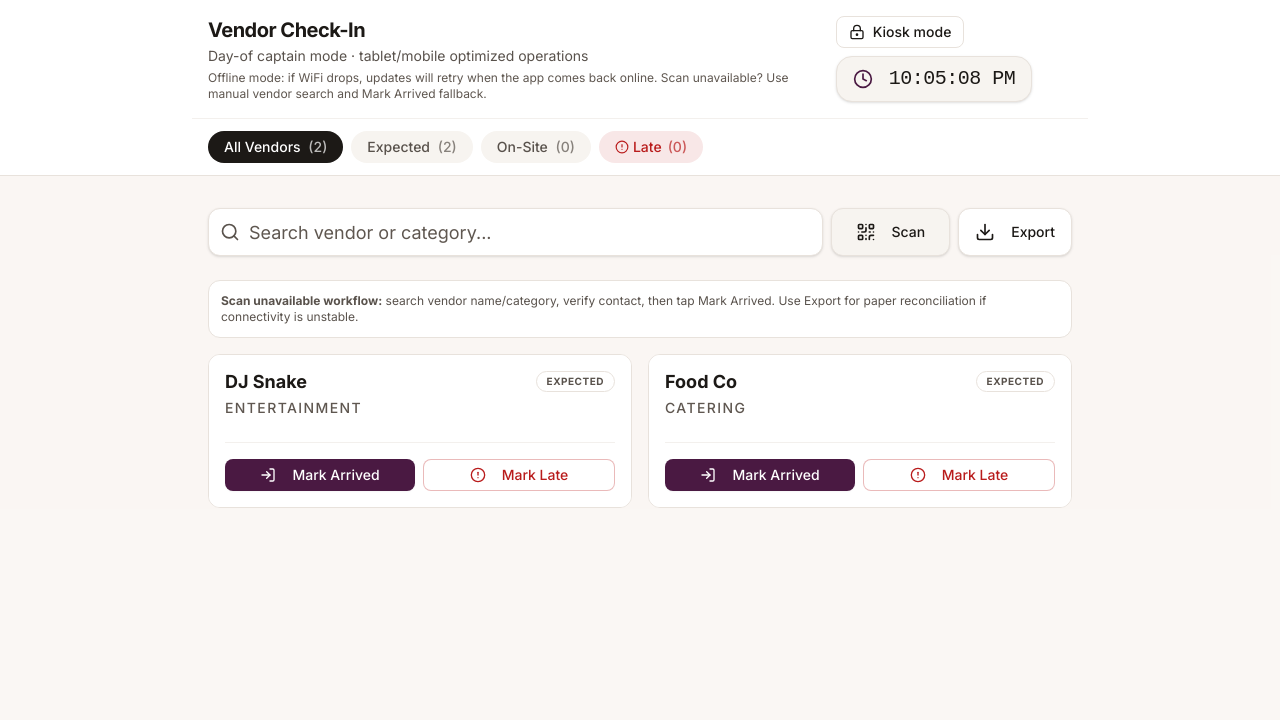
VendorCheckInApp › non-offline failures show the real error message (no false offline promise)
The image size is (1280, 720).
Expected: the heading "DJ Snake" is shown, left=225, top=371, right=307, bottom=392
Click the button "Mark Arrived" below "Entertainment" at [320, 474], box left=225, top=458, right=415, bottom=490
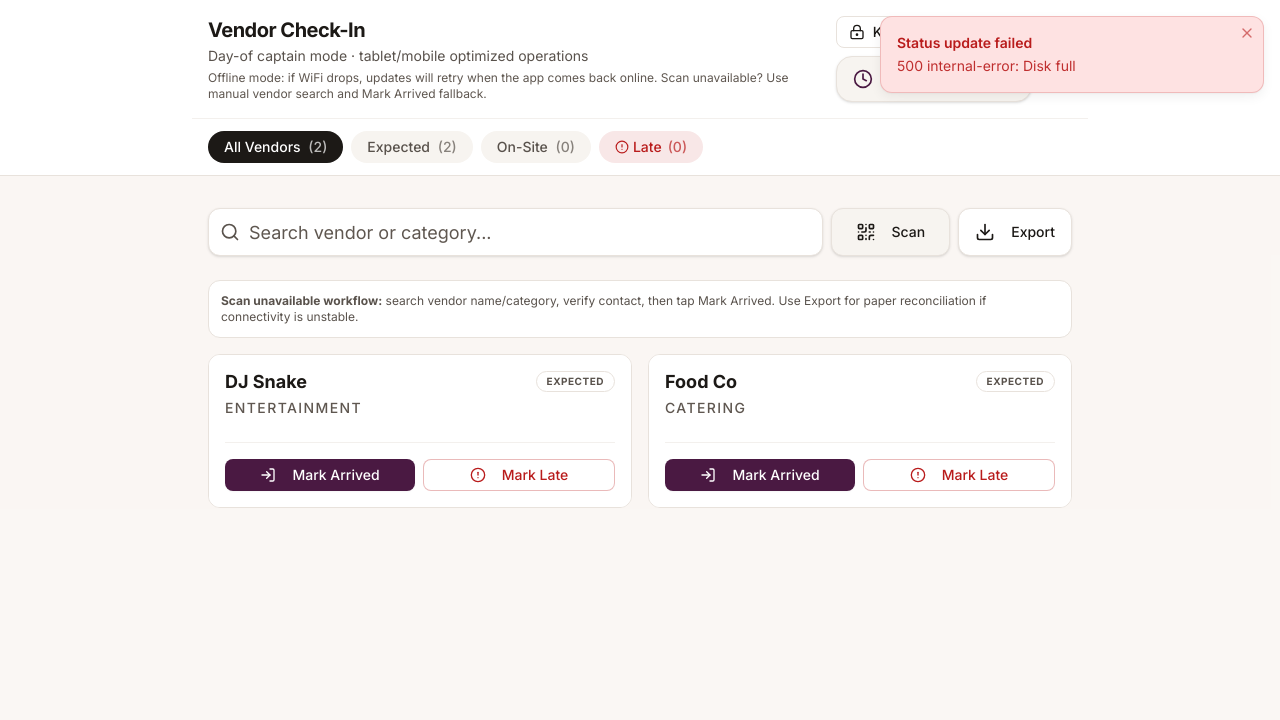
Expected: the text "Status update failed" is shown, left=897, top=34, right=1032, bottom=51
Expected: the text "500 internal-error: Disk full" is shown, left=897, top=57, right=1076, bottom=74
